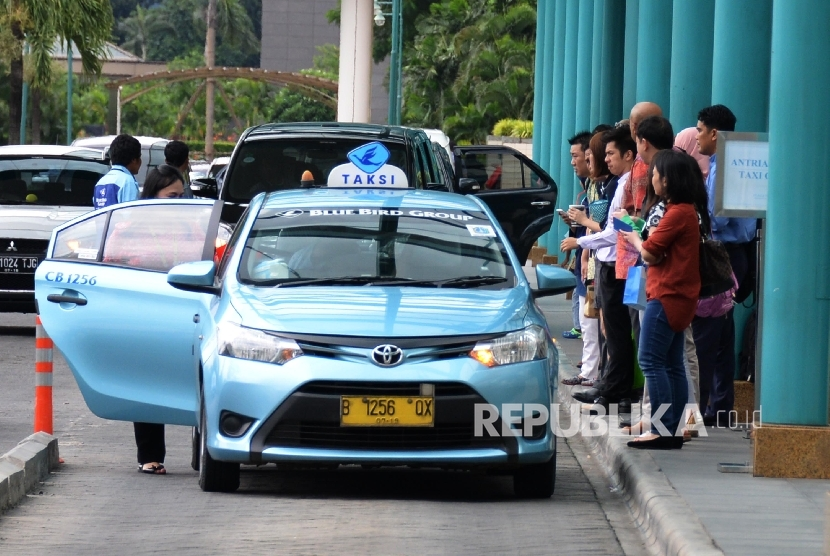plate: (343, 394, 431, 426)
